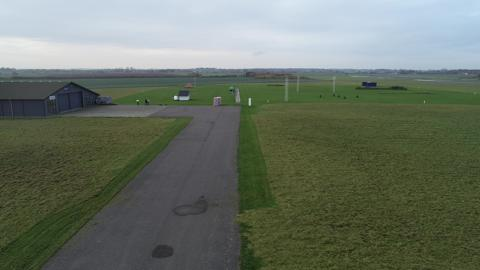RockwoolPallet: (213, 98, 221, 110)
